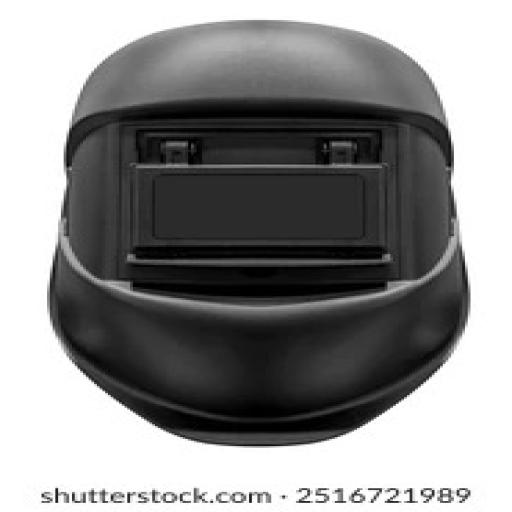mask: (39, 139, 507, 441)
